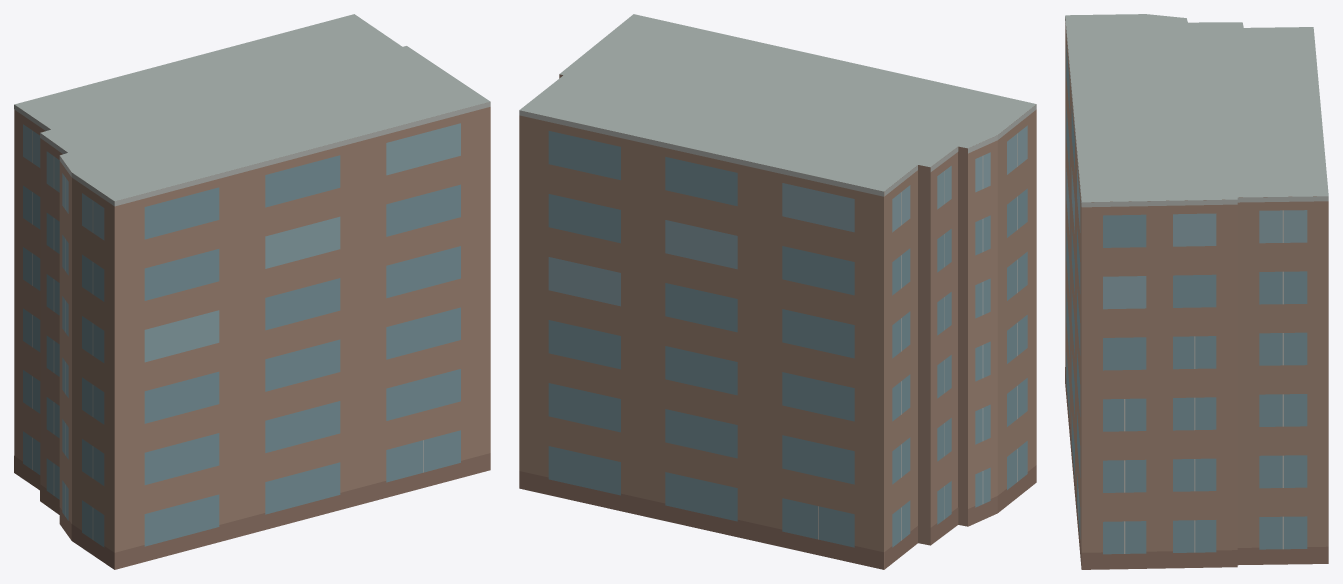
The model's file is survey-upis-32641208.glb.
3 renders of one model, left to right at view 1: azimuth 30°, elevation 25°; view 2: azimuth 150°, elevation 25°; view 3: azimuth 270°, elevation 25°, orthographic. The views are drawn at different scales.
Visible parts, largest first — view 1: survey-upis-32641208.tmp; view 2: survey-upis-32641208.tmp; view 3: survey-upis-32641208.tmp.
Boxes of the visible parts, box(x1,y1,x2,y2) form: survey-upis-32641208.tmp: box(14, 14, 490, 569); survey-upis-32641208.tmp: box(519, 14, 1036, 569); survey-upis-32641208.tmp: box(1065, 14, 1328, 569).
Bounding box in the file's own units: 19.56 × 17.8 × 11.58.
